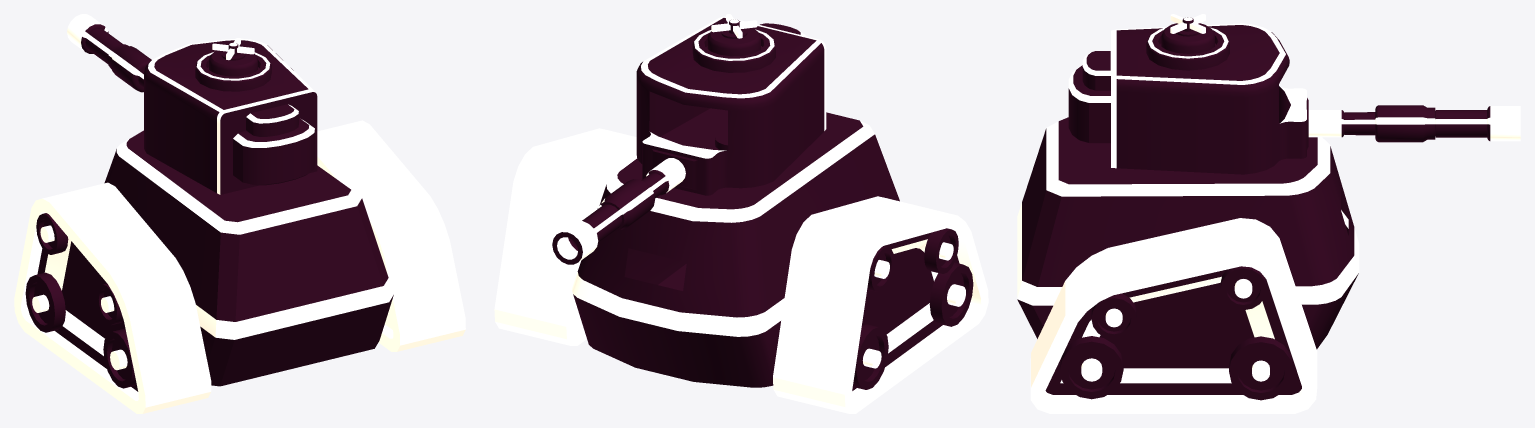
Rendered from Tank_mini.fbx.
3 renders of one model, left to right at view 1: azimuth 30°, elevation 25°; view 2: azimuth 150°, elevation 25°; view 3: azimuth 270°, elevation 25°, orthographic. The views are drawn at different scales.
Parts seen in each view (by area): view 1: Cube.039, Cube.015; view 2: Cube.039, Cube.015; view 3: Cube.039, Cube.015.
Part boxes in pixels (box(x1,y1,x2,y2)): Cube.039: box(14, 120, 465, 413); Cube.015: box(67, 14, 317, 194); Cube.039: box(494, 112, 988, 413); Cube.015: box(552, 14, 826, 264); Cube.039: box(1017, 117, 1359, 413); Cube.015: box(1068, 14, 1520, 174).
Bounding box in the file's own units: 445 × 369 × 544.
